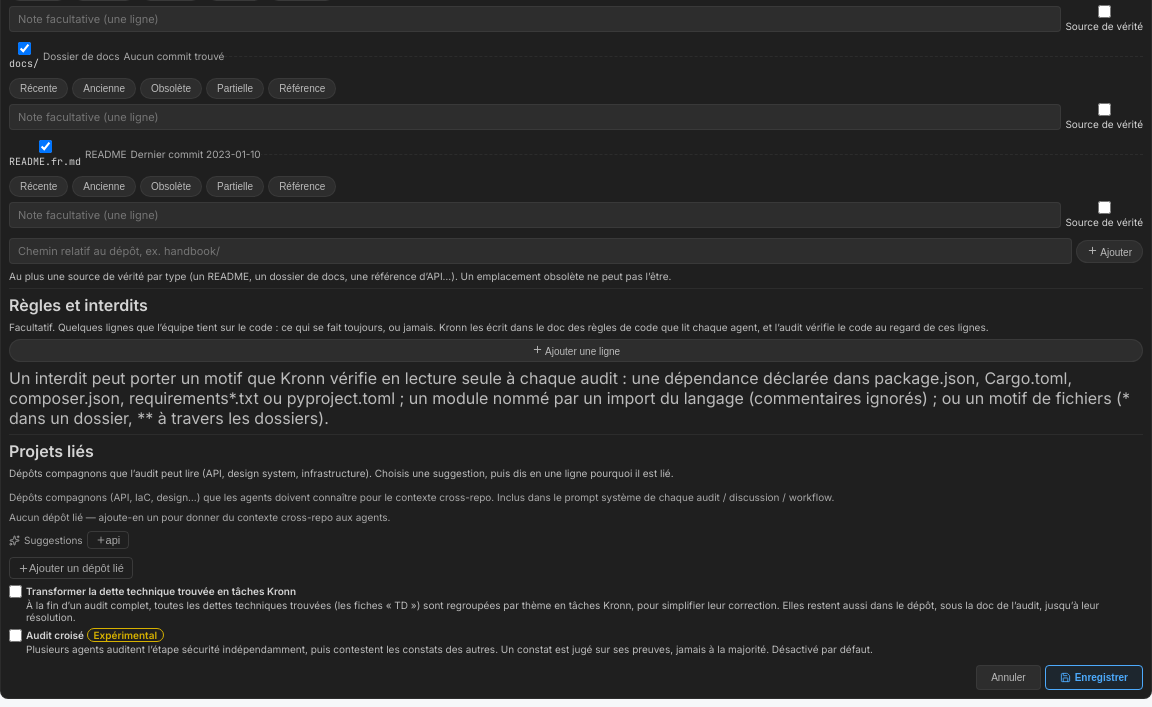
it: BriefingForm existing documentation (KT-999) › shows the linked repos drawer with one-click suggestions when given the repos
The image size is (1152, 707).
(page scrolled)
Click the button "api" at (108,540), box [87, 531, 129, 549]
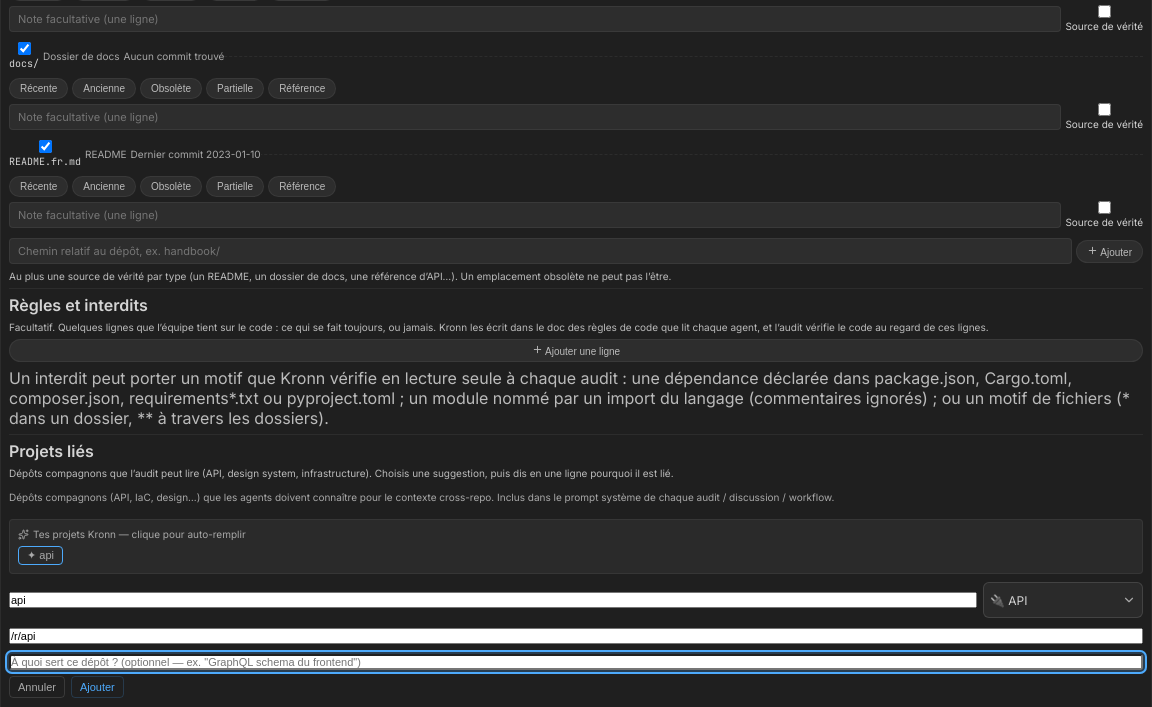
expect the 1st field with placeholder "Nom (ex. backend-api)" holds "api": met, box [9, 592, 977, 608]
